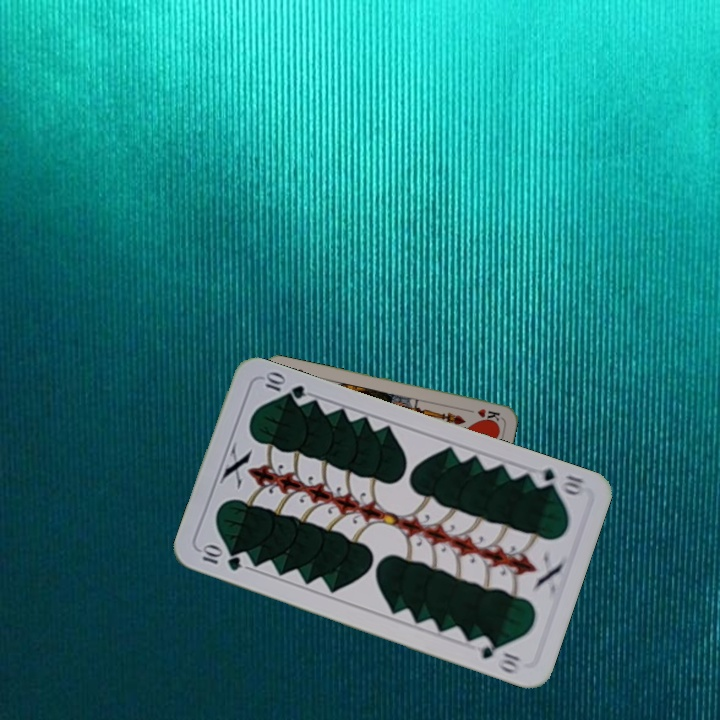G10: (527, 464, 587, 499), (198, 542, 244, 574)
HK: (462, 404, 502, 424)
